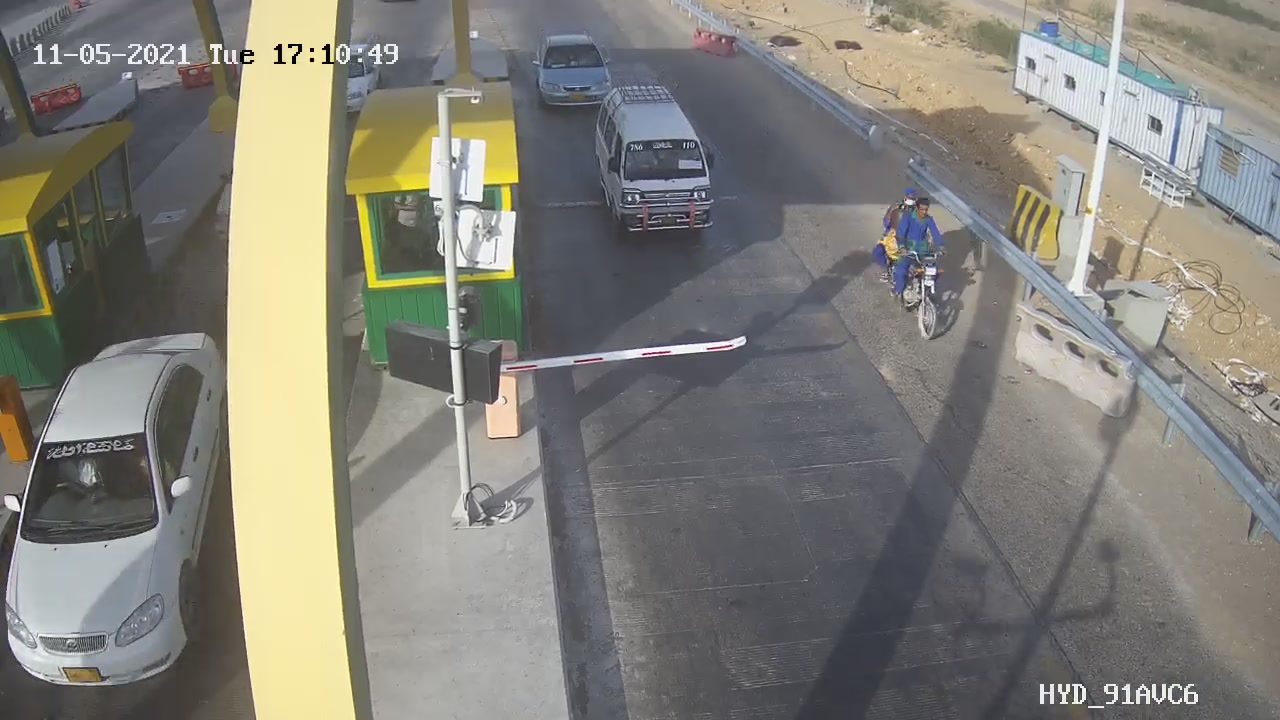F1: (578, 72, 742, 257), (522, 20, 627, 121)
